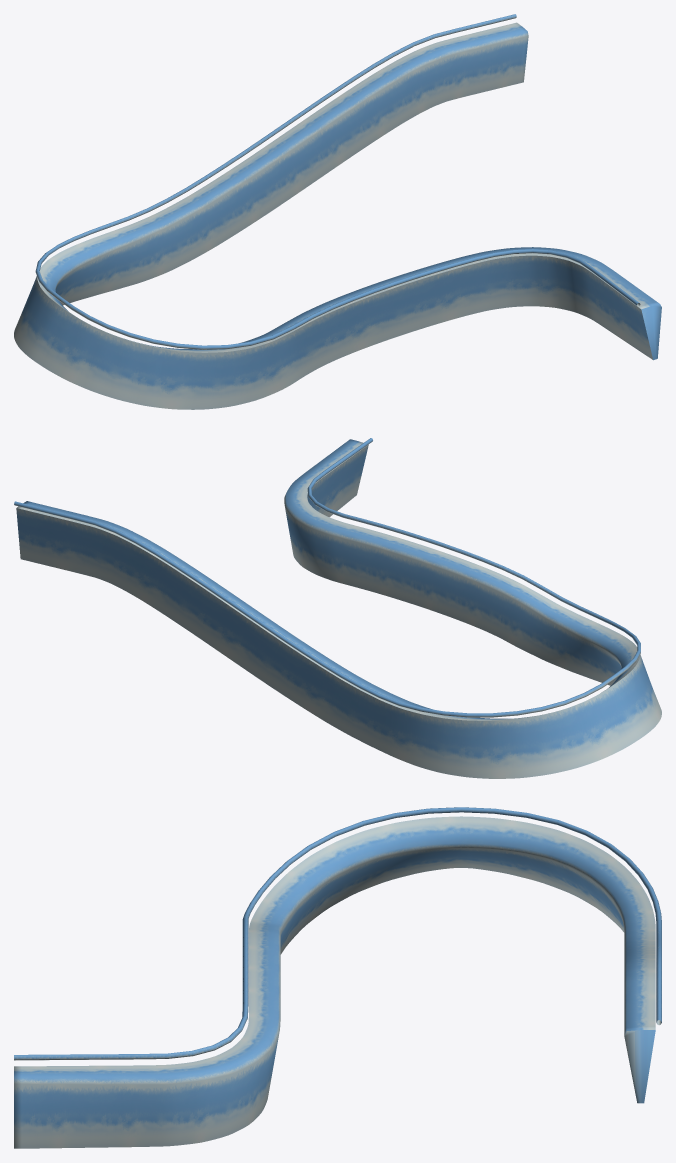
File: Level 16 ramp.fbx
The picture shows the model from 3 angles, top to bottom: view 1: azimuth 30°, elevation 25°; view 2: azimuth 150°, elevation 25°; view 3: azimuth 270°, elevation 25°; orthographic projection. The views are drawn at different scales.
Visible parts, largest first — view 1: Level 16 ramp; view 2: Level 16 ramp; view 3: Level 16 ramp.
Boxes of the visible parts, x1,y1,x2,y2 form: Level 16 ramp: [14, 14, 661, 409]; Level 16 ramp: [14, 438, 661, 778]; Level 16 ramp: [14, 807, 661, 1148].
Size of the model in its own units: 5530 by 1695 by 4148.
